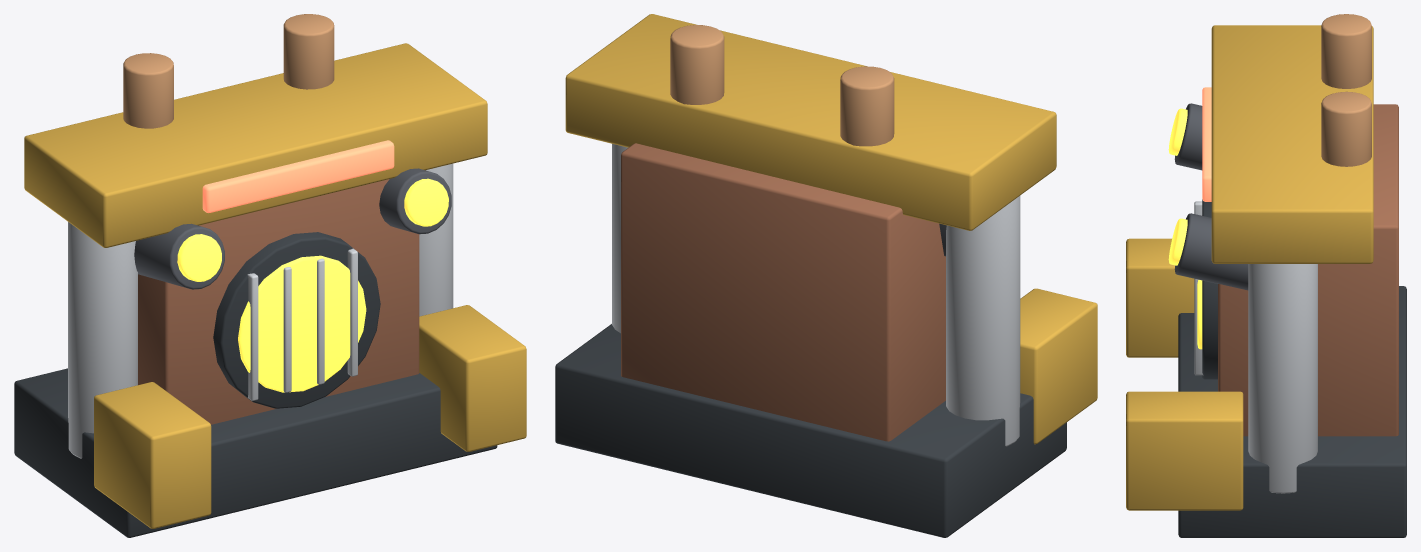
Rendered from enemy_boss_fornace_idraulica.glb.
The picture shows the model from 3 angles, left to right: view 1: azimuth 30°, elevation 25°; view 2: azimuth 150°, elevation 25°; view 3: azimuth 270°, elevation 25°; orthographic projection. The views are drawn at different scales.
Parts seen in each view (by area): view 1: CrownGantry, FoundryPlinth, SmelterTower, SiegeClaw_-1, SiegeClaw_1, HydraulicPillar_-1, MoltenCorePool, CrucibleVat, FoundryOptic, ChimneyStack_1, ChimneyStack_-1, HydraulicPillar_1 (+8 smaller); view 2: SmelterTower, CrownGantry, FoundryPlinth, HydraulicPillar_-1, SiegeClaw_-1, ChimneyStack_-1, ChimneyStack_1, HydraulicPillar_1; view 3: CrownGantry, SmelterTower, FoundryPlinth, HydraulicPillar_1, SiegeClaw_1, SiegeClaw_-1, ChimneyStack_1, ChimneyStack_-1, SlagMortar_1, CrucibleVat, SlagMortar_-1, FoundryOptic (+4 smaller).
Part boxes in pixels (left/top/right/bottom): CrownGantry: left=24, top=43, right=487, bottom=247; FoundryPlinth: left=14, top=368, right=497, bottom=537; SmelterTower: left=138, top=179, right=419, bottom=424; SiegeClaw_-1: left=94, top=382, right=211, bottom=528; SiegeClaw_1: left=419, top=305, right=526, bottom=451; HydraulicPillar_-1: left=68, top=222, right=137, bottom=458; MoltenCorePool: left=238, top=255, right=366, bottom=392; CrucibleVat: left=213, top=232, right=380, bottom=408; FoundryOptic: left=202, top=140, right=394, bottom=212; ChimneyStack_1: left=283, top=14, right=334, bottom=89; ChimneyStack_-1: left=123, top=53, right=173, bottom=128; HydraulicPillar_1: left=419, top=163, right=453, bottom=316; SmelterTower: left=621, top=143, right=945, bottom=441; CrownGantry: left=565, top=14, right=1056, bottom=230; FoundryPlinth: left=555, top=324, right=1066, bottom=537; HydraulicPillar_-1: left=946, top=196, right=1020, bottom=446; SiegeClaw_-1: left=1020, top=288, right=1097, bottom=444; ChimneyStack_-1: left=840, top=66, right=894, bottom=146; ChimneyStack_1: left=670, top=25, right=724, bottom=104; HydraulicPillar_1: left=612, top=144, right=627, bottom=333; CrownGantry: left=1211, top=25, right=1373, bottom=263; SmelterTower: left=1218, top=104, right=1398, bottom=436; FoundryPlinth: left=1178, top=286, right=1406, bottom=537; HydraulicPillar_1: left=1248, top=264, right=1317, bottom=493; SiegeClaw_1: left=1126, top=391, right=1243, bottom=510; SiegeClaw_-1: left=1126, top=238, right=1194, bottom=357; ChimneyStack_1: left=1321, top=91, right=1371, bottom=166; ChimneyStack_-1: left=1321, top=14, right=1371, bottom=88; SlagMortar_1: left=1174, top=213, right=1248, bottom=290; CrucibleVat: left=1202, top=199, right=1217, bottom=379; SlagMortar_-1: left=1174, top=103, right=1202, bottom=170; FoundryOptic: left=1202, top=87, right=1211, bottom=201.
Size of the model in its own units: 2.78 by 2.69 by 1.77.
